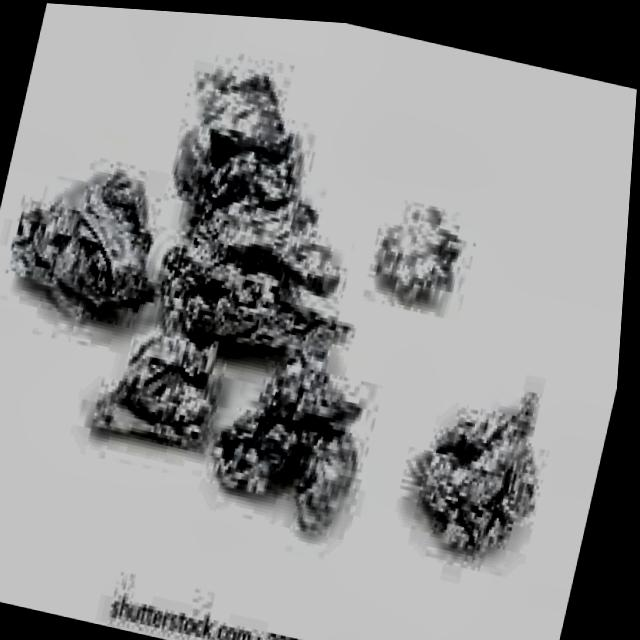Foil: (129, 36, 415, 392), (205, 304, 418, 566), (0, 145, 190, 383), (389, 366, 571, 569), (85, 293, 241, 479), (368, 181, 486, 304)
